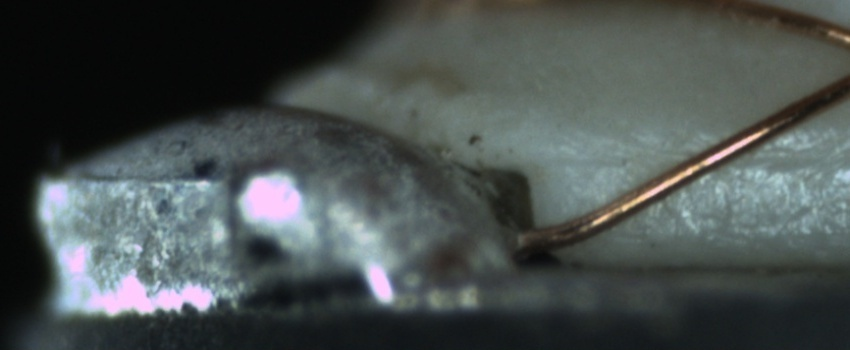DL: (563, 122, 849, 189)
